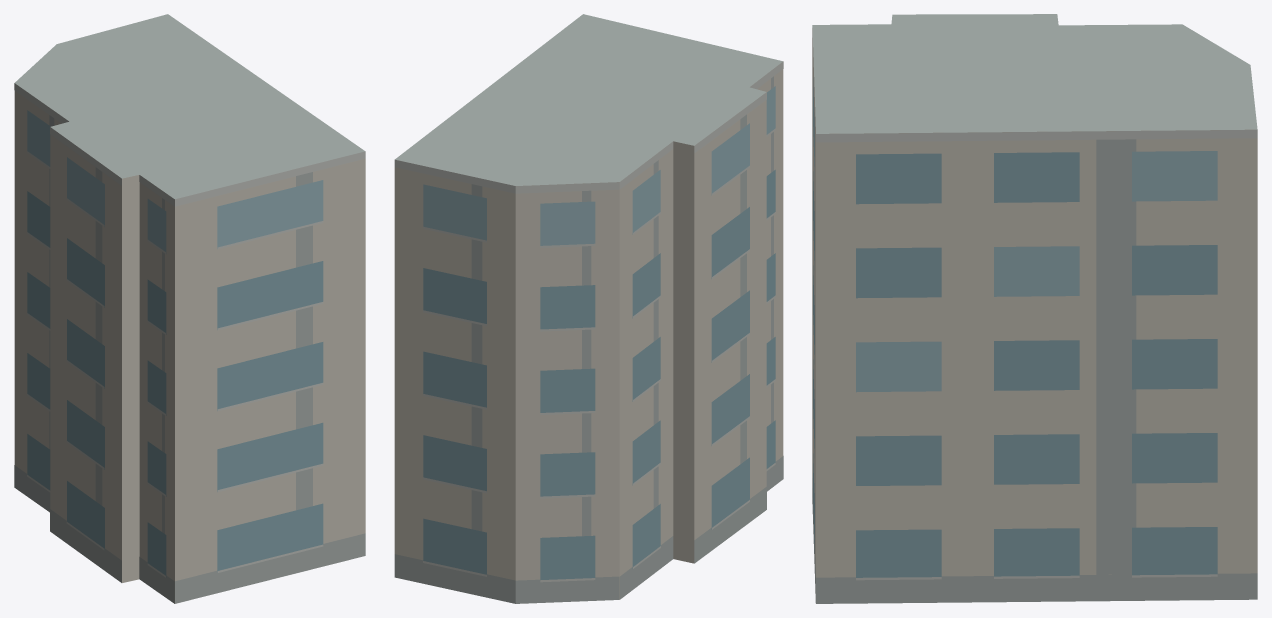
The model's file is survey-upis-32712430.glb.
The picture shows the model from 3 angles, left to right: view 1: azimuth 30°, elevation 25°; view 2: azimuth 150°, elevation 25°; view 3: azimuth 270°, elevation 25°; orthographic projection. The views are drawn at different scales.
Parts seen in each view (by area): view 1: survey-upis-32712430.tmp; view 2: survey-upis-32712430.tmp; view 3: survey-upis-32712430.tmp.
Boxes of the visible parts, x1,y1,x2,y2 form: survey-upis-32712430.tmp: (14, 14, 365, 603); survey-upis-32712430.tmp: (394, 14, 783, 603); survey-upis-32712430.tmp: (812, 14, 1257, 603).
Size of the model in its own units: 7.34 by 13.4 by 11.52.
